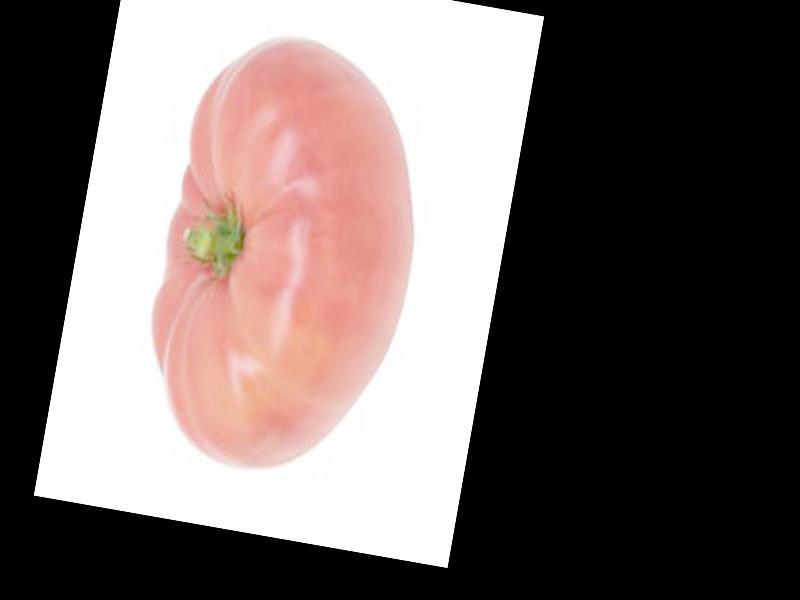Tomato: (134, 24, 443, 491)
